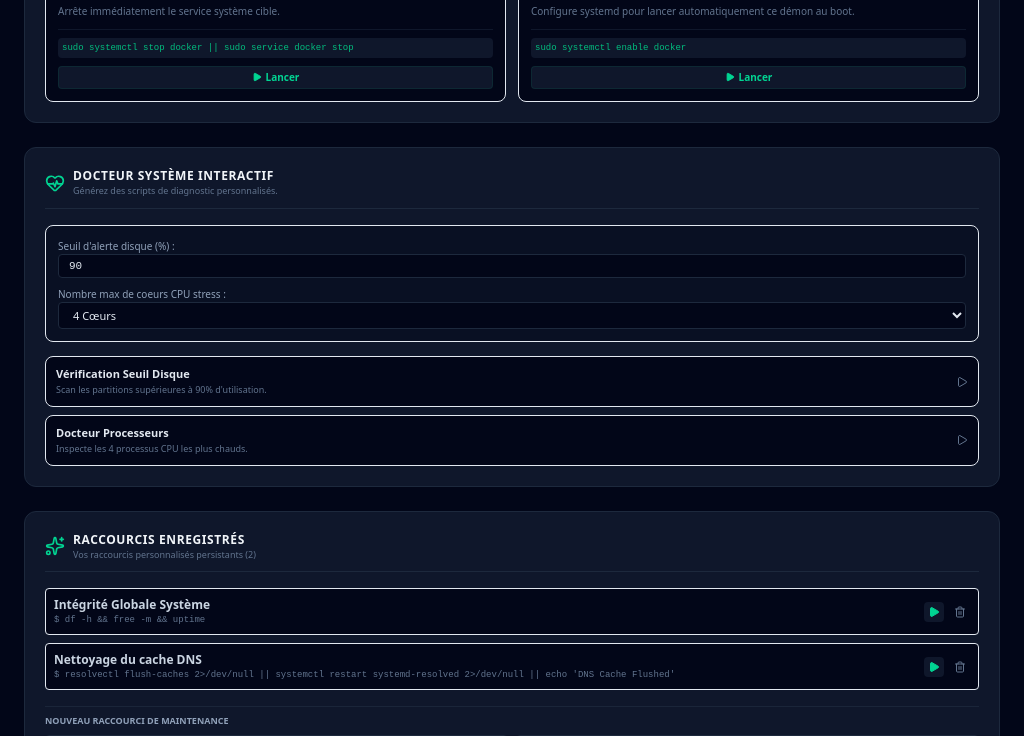
Test case: MaintenanceHub Component › alimente l'historique de session après une exécution
The image size is (1024, 736).
(page scrolled)
Click the text "Vérification Seuil Disque" at {"x": 123, "y": 374}, box [56,366,190,381]
Wait 3000 ms
(page scrolled)
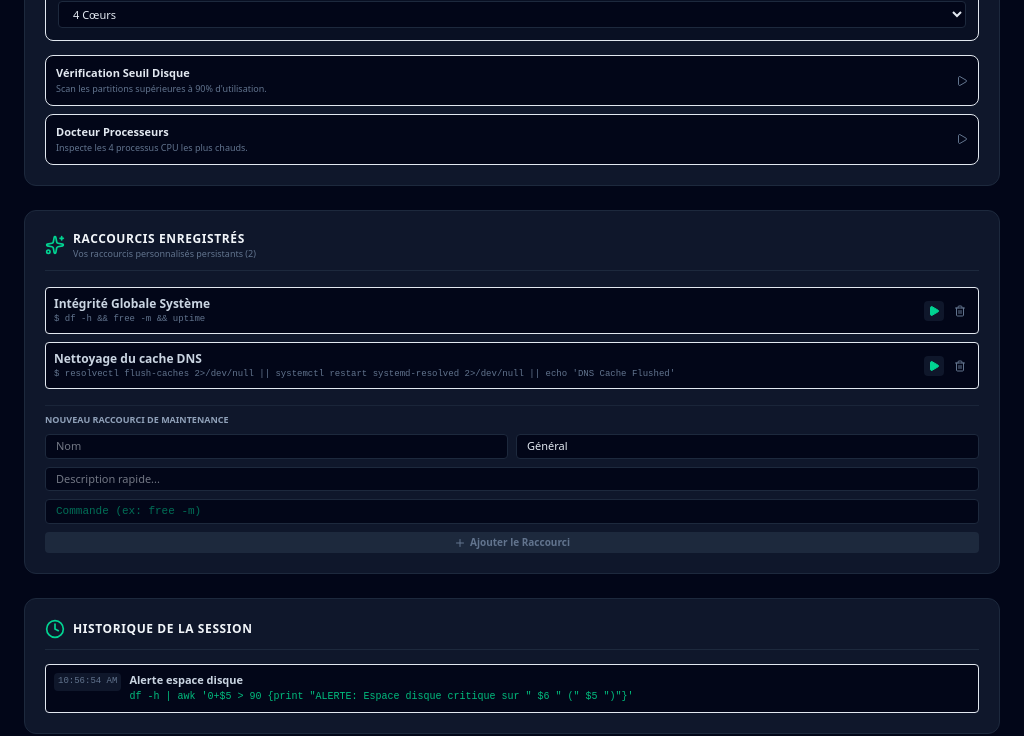
Check: the text "Alerte espace disque" is shown, box [129,672,243,687]
Check: the text "df -h | awk" is shown, box [129,691,634,702]
